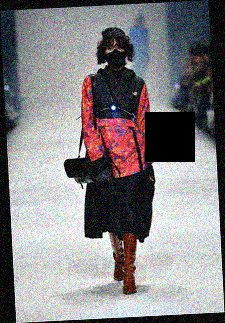with_mask: (105, 41, 127, 69)
